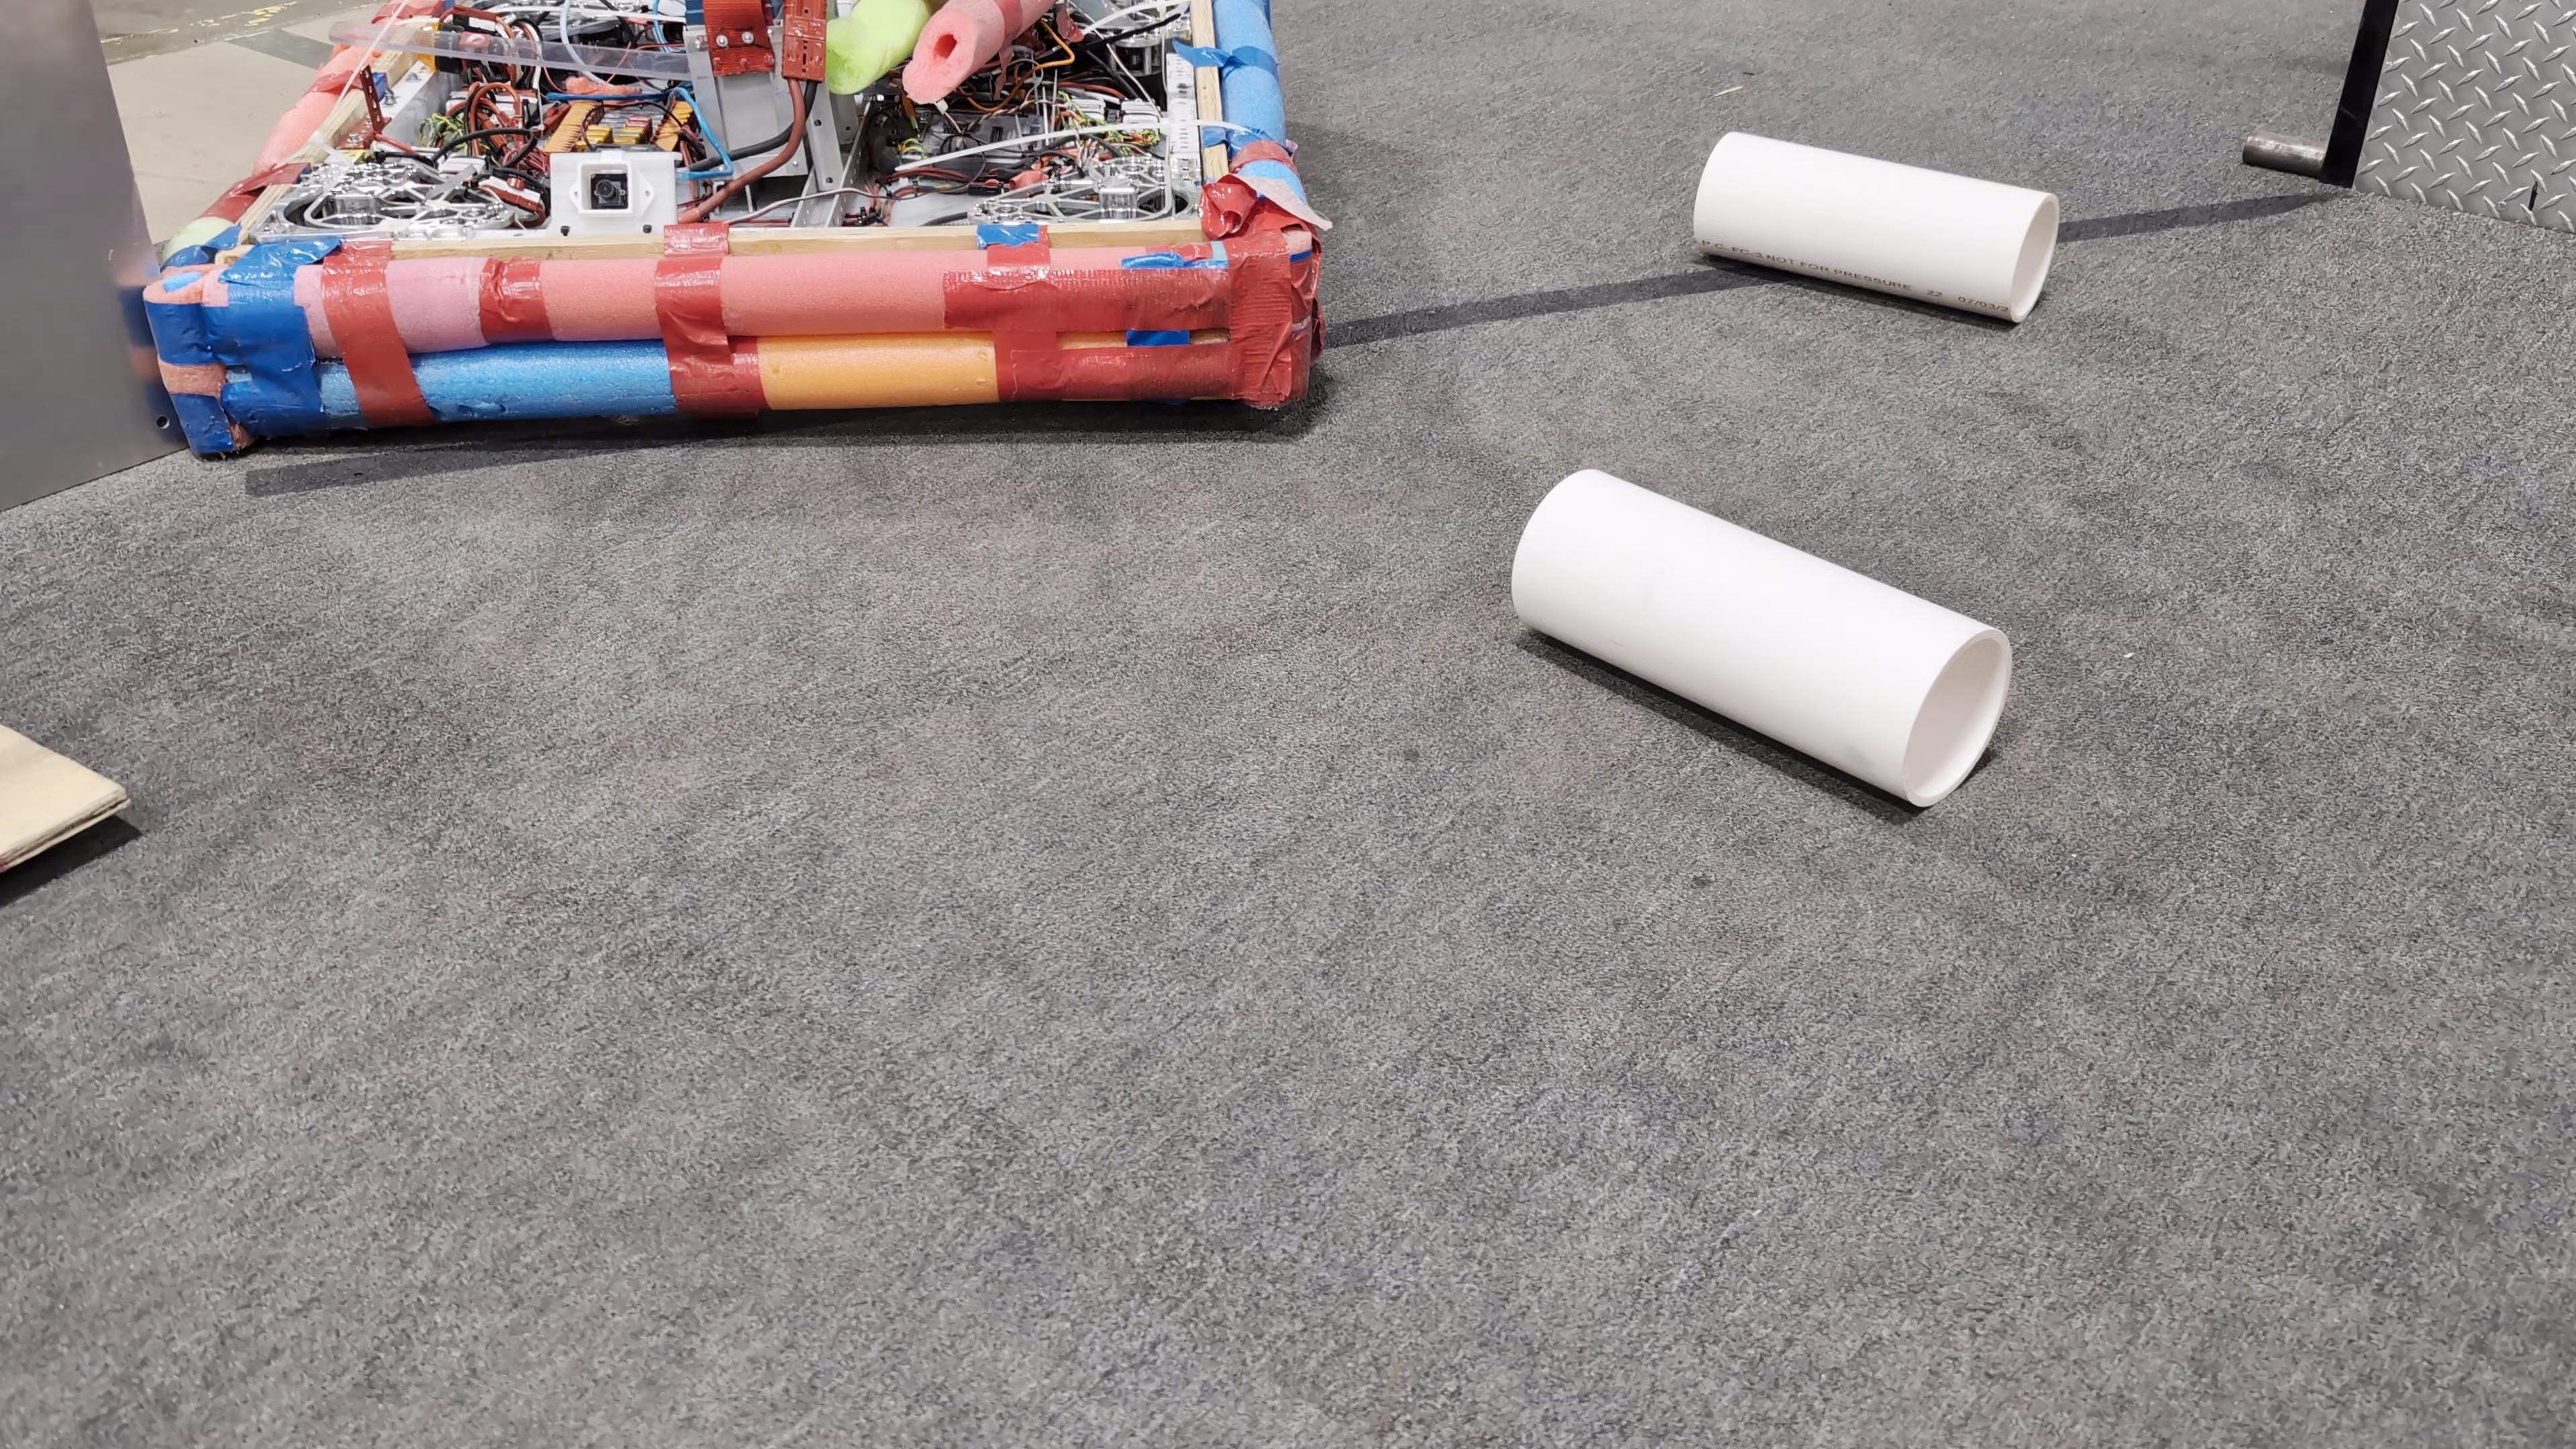coral: (1507, 464, 2013, 809), (1691, 127, 2065, 322)
